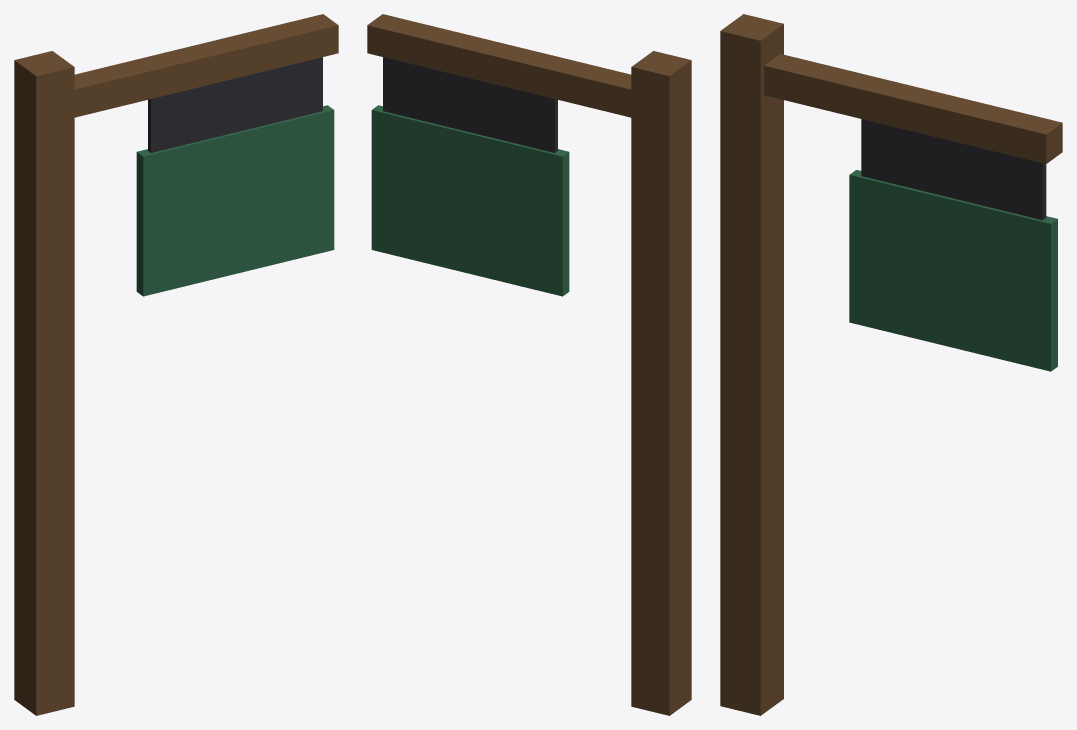
The model's file is sign.glb.
3 renders of one model, left to right at view 1: azimuth 30°, elevation 25°; view 2: azimuth 150°, elevation 25°; view 3: azimuth 330°, elevation 25°, orthographic. The views are drawn at different scales.
Parts seen in each view (by area): view 1: Post, Panel, ArmBeam, Chains; view 2: Post, Panel, ArmBeam, Chains; view 3: Post, Panel, ArmBeam, Chains.
Boxes of the visible parts, x1=… form: Post: x1=14, y1=51, x2=74, y2=715; Panel: x1=136, y1=105, x2=334, y2=296; ArmBeam: x1=17, y1=14, x2=338, y2=127; Chains: x1=148, y1=57, x2=322, y2=152; Post: x1=631, y1=51, x2=691, y2=715; Panel: x1=371, y1=105, x2=569, y2=296; ArmBeam: x1=367, y1=14, x2=688, y2=126; Chains: x1=383, y1=57, x2=557, y2=152; Post: x1=720, y1=14, x2=783, y2=715; Panel: x1=849, y1=170, x2=1057, y2=371; ArmBeam: x1=764, y1=54, x2=1062, y2=163; Chains: x1=861, y1=119, x2=1046, y2=220.
Bounding box in the file's own units: 1.6 × 3.2 × 0.2.
